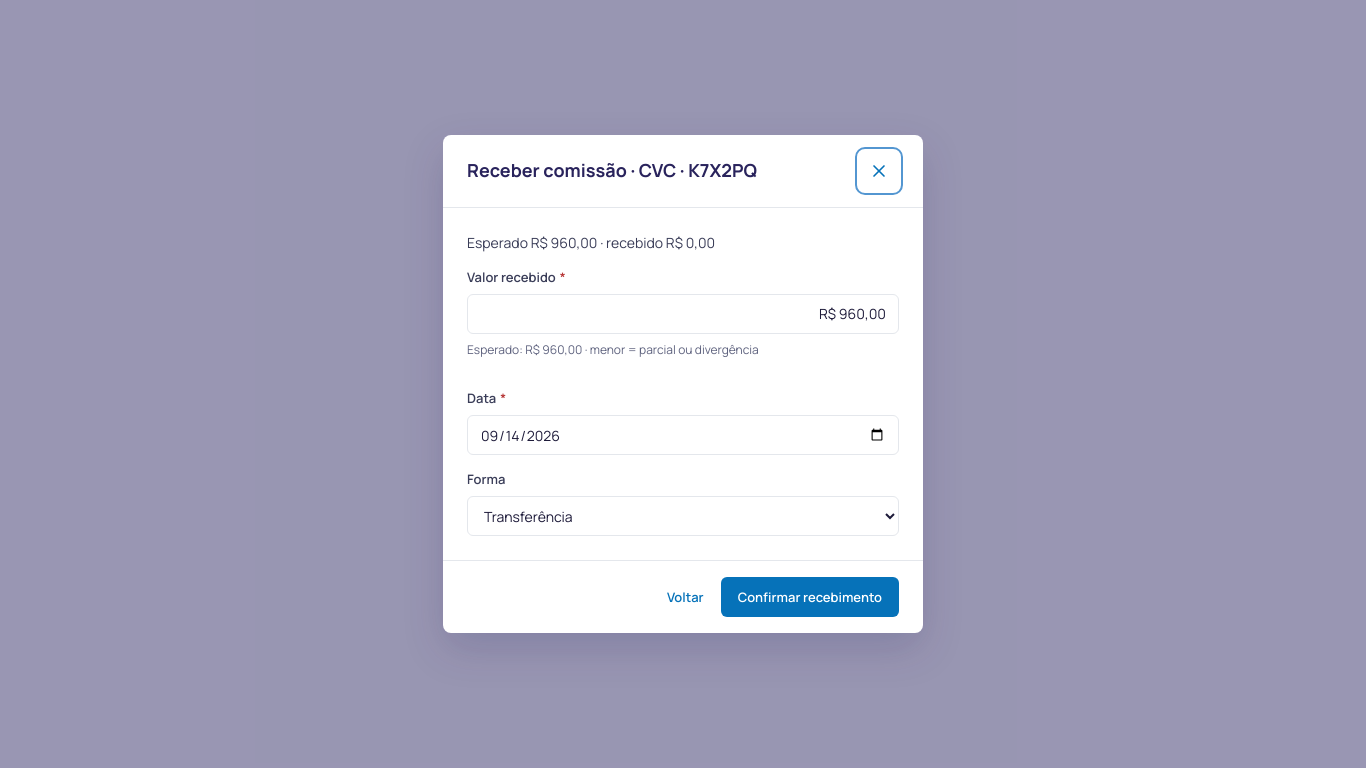
Test: valor menor que o saldo avisa sobre divergência
Replace the text in the field labelled "Valor recebido *" with "700". click: (683, 314)
box: [467, 294, 899, 334]
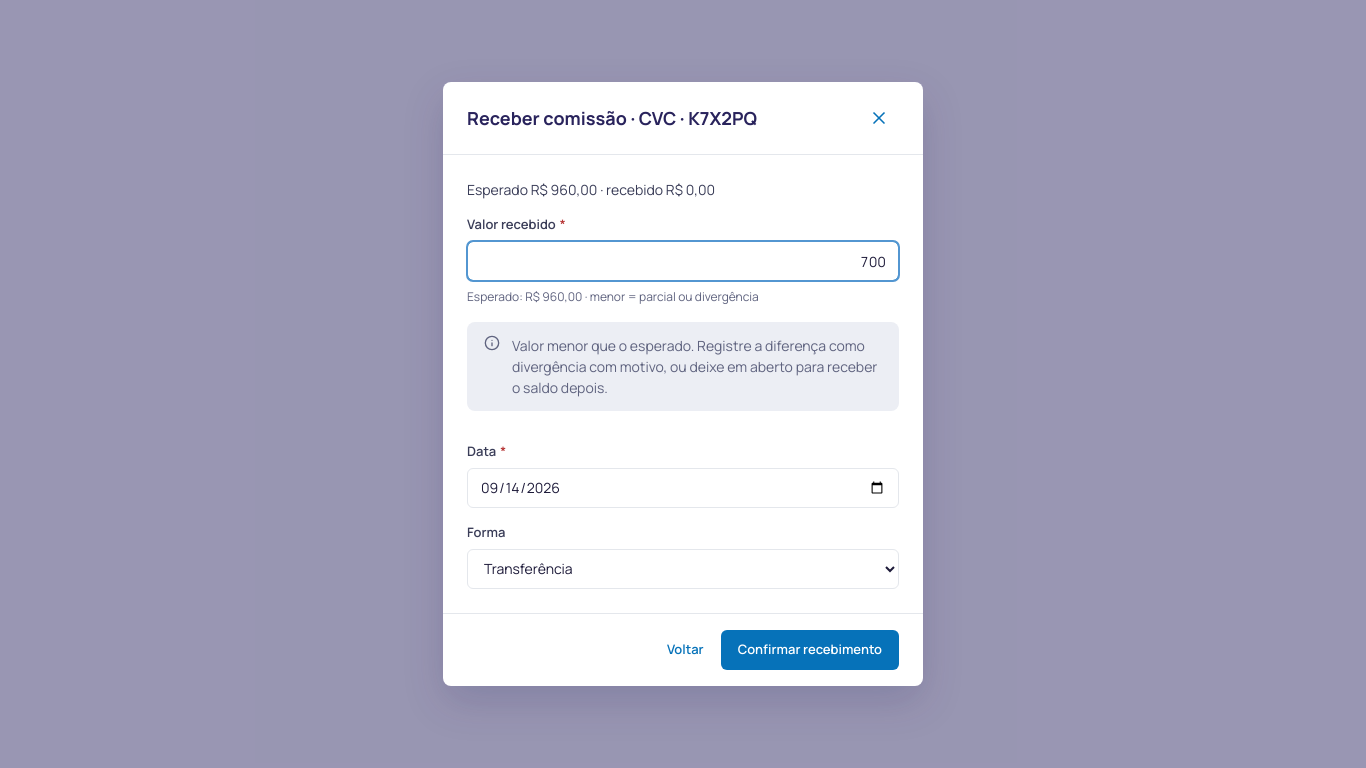
Now the text "Valor menor que o esperado" is shown, box [512, 336, 877, 397]
